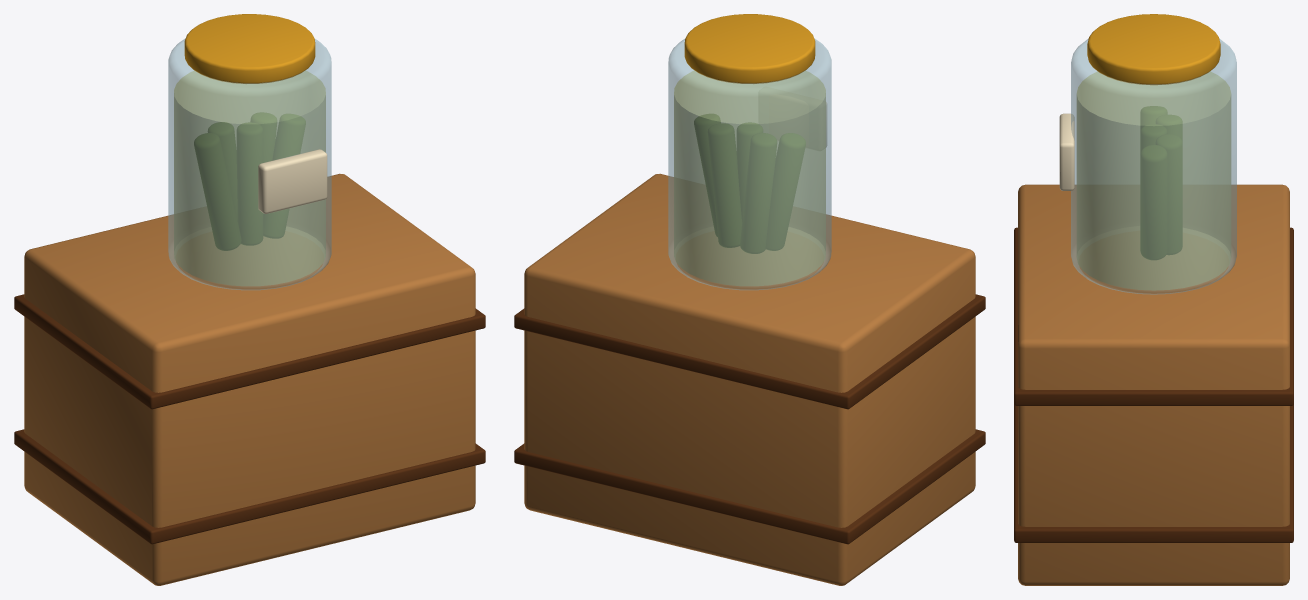
File: pickle_jar.glb
The picture shows the model from 3 angles, left to right: view 1: azimuth 30°, elevation 25°; view 2: azimuth 150°, elevation 25°; view 3: azimuth 270°, elevation 25°; orthographic projection.
Visible parts, largest first — view 1: pickle_jar; view 2: pickle_jar; view 3: pickle_jar.
Part boxes in pixels (<box>): pickle_jar: <box>14,14,485,585</box>; pickle_jar: <box>514,14,985,585</box>; pickle_jar: <box>1014,14,1293,585</box>.
Size of the model in its own units: 0.52 by 0.6825 by 0.37.
